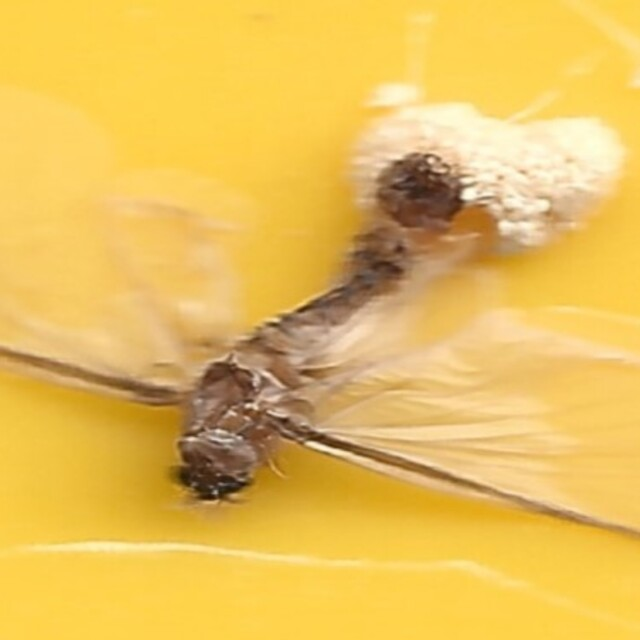Ephemeroptera: (171, 139, 469, 501)
